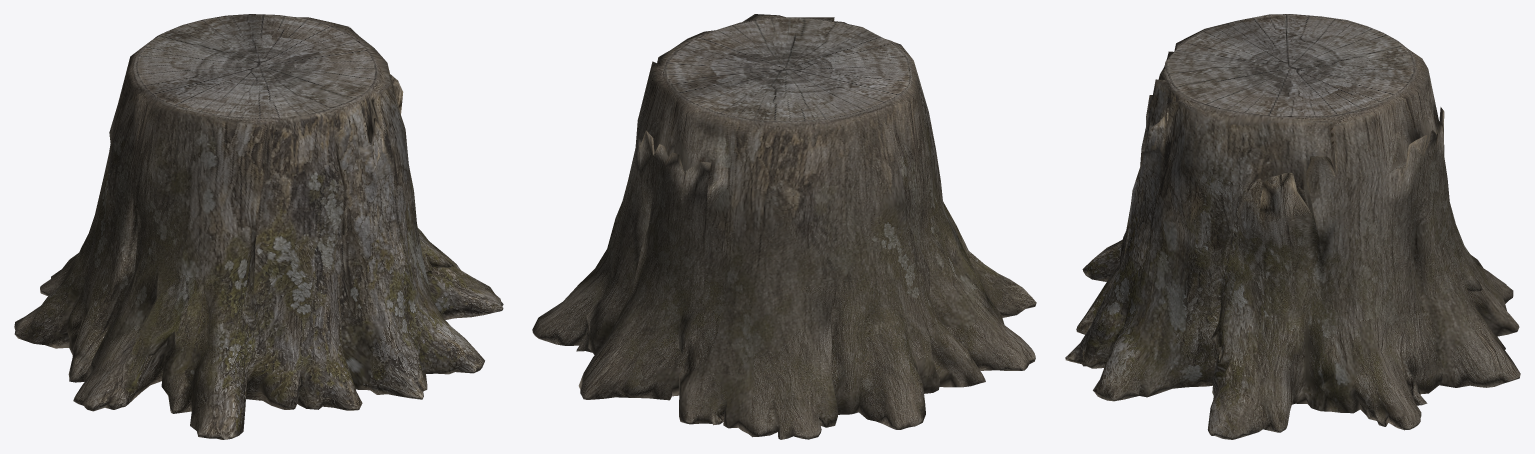
Rendered from stump_b.fbx.
The picture shows the model from 3 angles, left to right: view 1: azimuth 30°, elevation 25°; view 2: azimuth 150°, elevation 25°; view 3: azimuth 270°, elevation 25°; orthographic projection.
Parts seen in each view (by area): view 1: Mesh_0; view 2: Mesh_0; view 3: Mesh_0.
Boxes of the visible parts, bbox=[...] form: Mesh_0: bbox=[14, 14, 503, 439]; Mesh_0: bbox=[532, 14, 1036, 439]; Mesh_0: bbox=[1065, 14, 1520, 439].
Bounding box in the file's own units: 95.61 × 57.47 × 88.33.
1 material, 1 textured.
